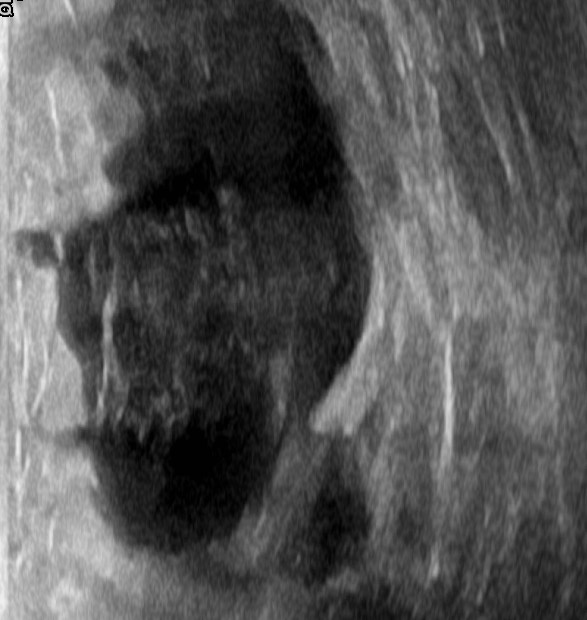Malignant: (61, 142, 369, 532)
